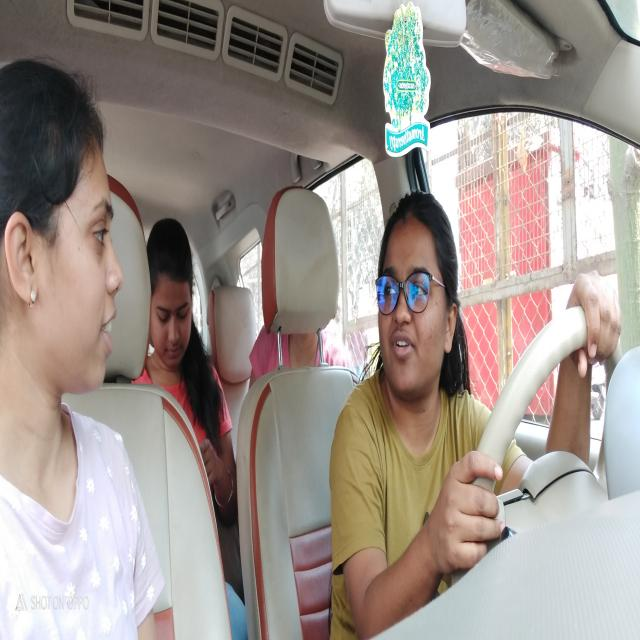LeftRight: (375, 185, 460, 406)
person: (1, 44, 120, 412), (146, 204, 196, 372)
talking: (96, 296, 120, 363), (388, 325, 418, 362)
